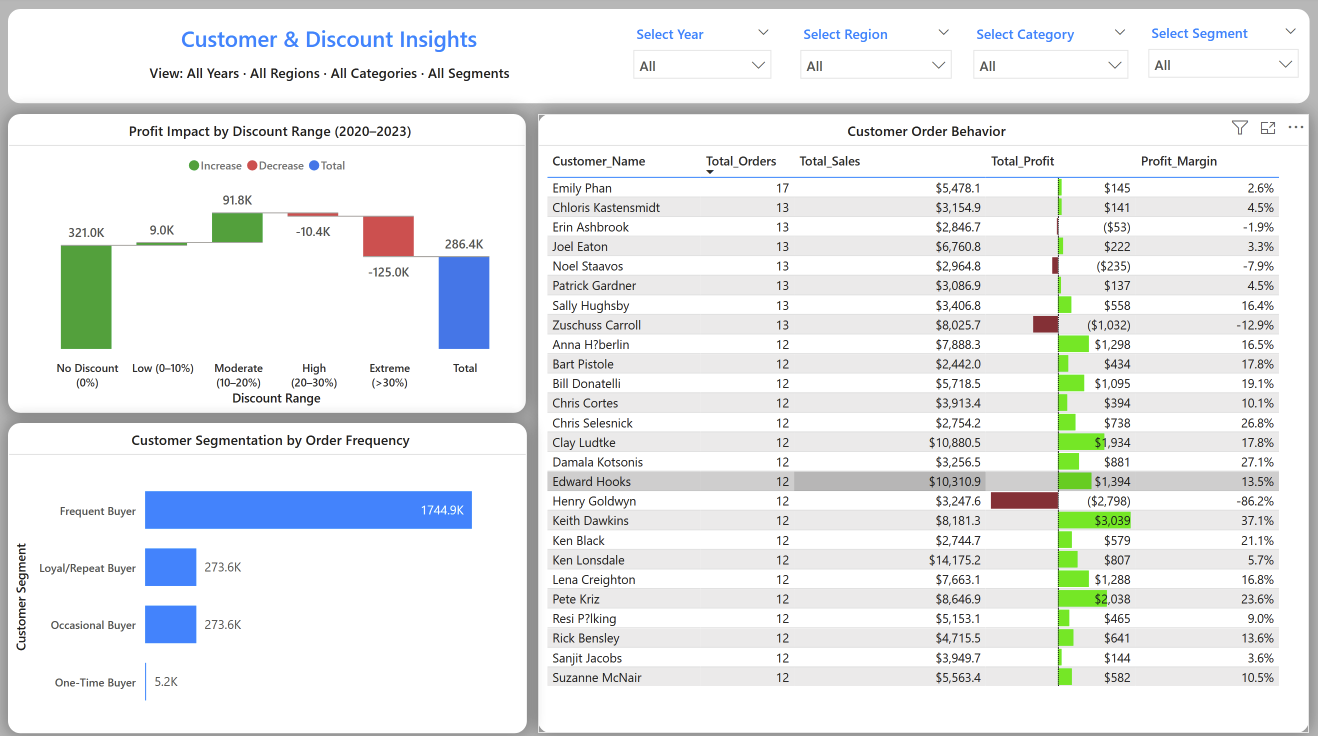

The dashboard page shown, as its layout file describes it:
{"tool":"powerbi","page":{"name":"Customer & Discount Analysis","canvas":[1280,720],"ordinal":3},"visuals":[{"type":"group","id":"g1","title":"Group 3","box":[8.7,11.7,1263.2,91.3],"z":0},{"type":"shape","box":[8.7,11.7,1263.2,91.3],"z":0,"group":"g1"},{"type":"card","title":"Total Revenue","fields":{"Values":["_measures.Context Banner"]},"box":[74,58,494,35],"z":0,"group":"g2"},{"type":"waterfallChart","title":"Profit Impact by Discount Range (2020–2023)","fields":{"Y":["Sum(Discount_Buckets.Total Profit)"],"Category":["Discount_Buckets.Discount_Range"]},"box":[8.7,113.5,502.6,290.1],"z":1000},{"type":"tableEx","title":"Customer Order Behavior","fields":{"Values":["Customer_Summary.Customer_Name","Sum(Customer_Summary.Total_Orders)","Sum(Customer_Summary.Total_Sales)","Sum(Customer_Summary.Total_Profit)","Sum(Customer_Summary.Profit_Margin)"]},"box":[523,113.5,748.1,600.6],"z":2000},{"type":"clusteredBarChart","title":"Customer Segmentation by Order Frequency","fields":{"Category":["Customer_Segmentation.Customer_Type"],"Y":["Sum(Customer_Segmentation.Total_Sales)"]},"box":[8.7,413.4,503.6,300.8],"z":3000},{"type":"textbox","box":[11.6,20.4,593.7,43.7],"z":5000,"group":"g1"},{"type":"slicer","fields":{"Values":["Date.Year"]},"box":[605.1,21.5,154.2,72.8],"z":6000,"group":"g1"},{"type":"slicer","fields":{"Values":["Location.Region"]},"box":[768,21.5,167.1,72.8],"z":7000,"group":"g1"},{"type":"slicer","fields":{"Values":["Products.Category"]},"box":[935.1,21.5,170.3,72.8],"z":8000,"group":"g1"},{"type":"slicer","fields":{"Values":["Orders.Segment"]},"box":[1105.4,20.4,166,71.8],"z":9000,"group":"g1"},{"type":"group","id":"g2","title":"Group 1","box":[74,58,494,35],"z":13000,"group":"g1"}]}

Visuals, with their boxes in screenshot pixels (x1, y1, x2, y2), scaled from the page's 1280x720 canvas onto the 1318x736 screenshot:
"Group 3" group: rect(9, 12, 1310, 105)
shape: rect(9, 12, 1310, 105)
"Total Revenue" card: rect(76, 59, 585, 95)
"Profit Impact by Discount Range (2020–2023)" waterfallChart: rect(9, 116, 526, 413)
"Customer Order Behavior" tableEx: rect(539, 116, 1309, 730)
"Customer Segmentation by Order Frequency" clusteredBarChart: rect(9, 423, 528, 730)
textbox: rect(12, 21, 623, 66)
slicer - Date.Year: rect(623, 22, 782, 96)
slicer - Location.Region: rect(791, 22, 963, 96)
slicer - Products.Category: rect(963, 22, 1138, 96)
slicer - Orders.Segment: rect(1138, 21, 1309, 94)
"Group 1" group: rect(76, 59, 585, 95)
